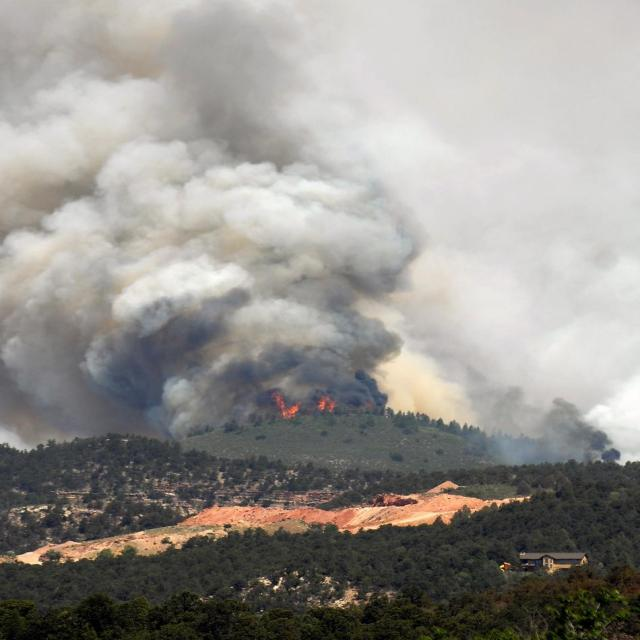Fire: (272, 391, 299, 418), (316, 395, 336, 413)
Smoke: (1, 1, 638, 468)
